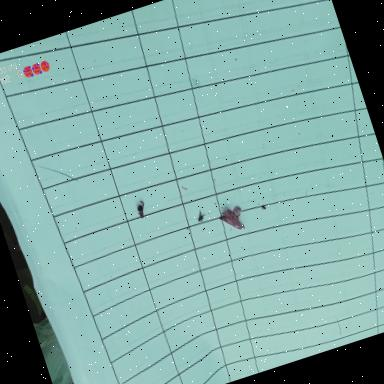pbw: (216, 206, 246, 237)
